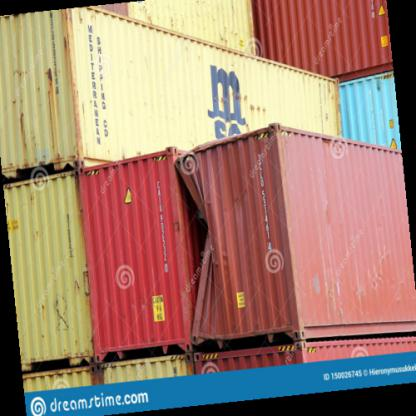Damage: (172, 193, 240, 307)
